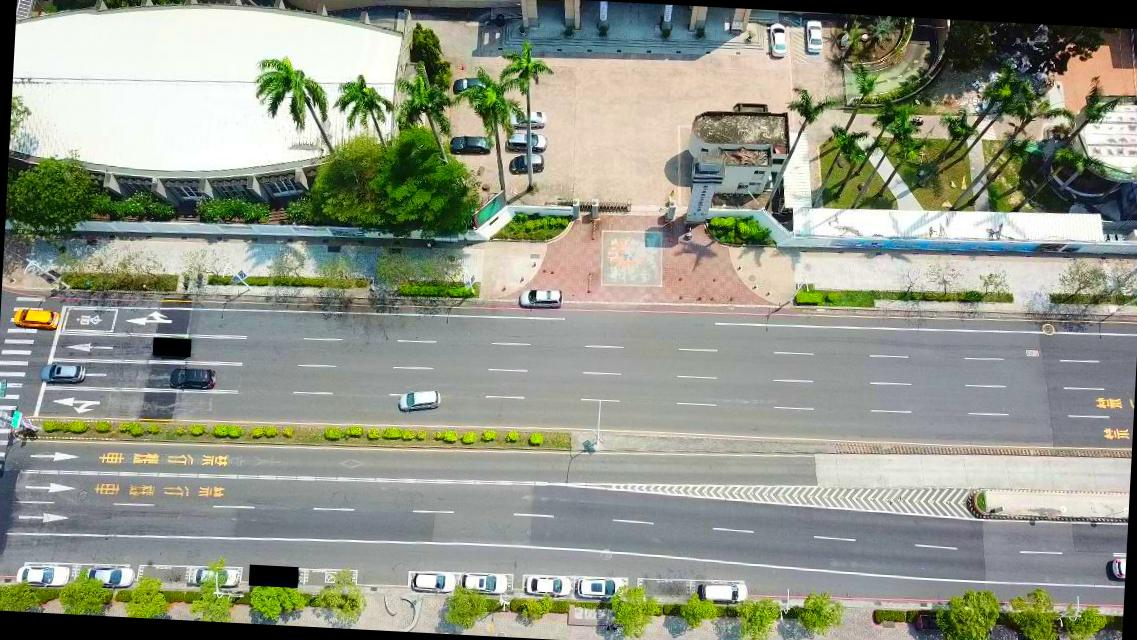vehicle: (458, 570, 510, 596), (14, 564, 70, 588), (168, 366, 216, 391), (85, 565, 136, 588), (190, 566, 240, 588), (697, 582, 748, 603), (524, 576, 572, 598), (574, 576, 622, 598), (409, 572, 456, 594), (396, 389, 440, 412), (12, 309, 58, 330), (516, 288, 564, 308), (41, 362, 84, 383), (505, 132, 548, 152), (448, 134, 490, 154), (767, 21, 788, 59), (508, 153, 544, 175), (503, 110, 546, 128), (452, 76, 490, 96), (804, 20, 823, 55), (1110, 558, 1125, 580)
